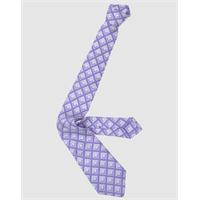tie: (56, 3, 143, 196)
